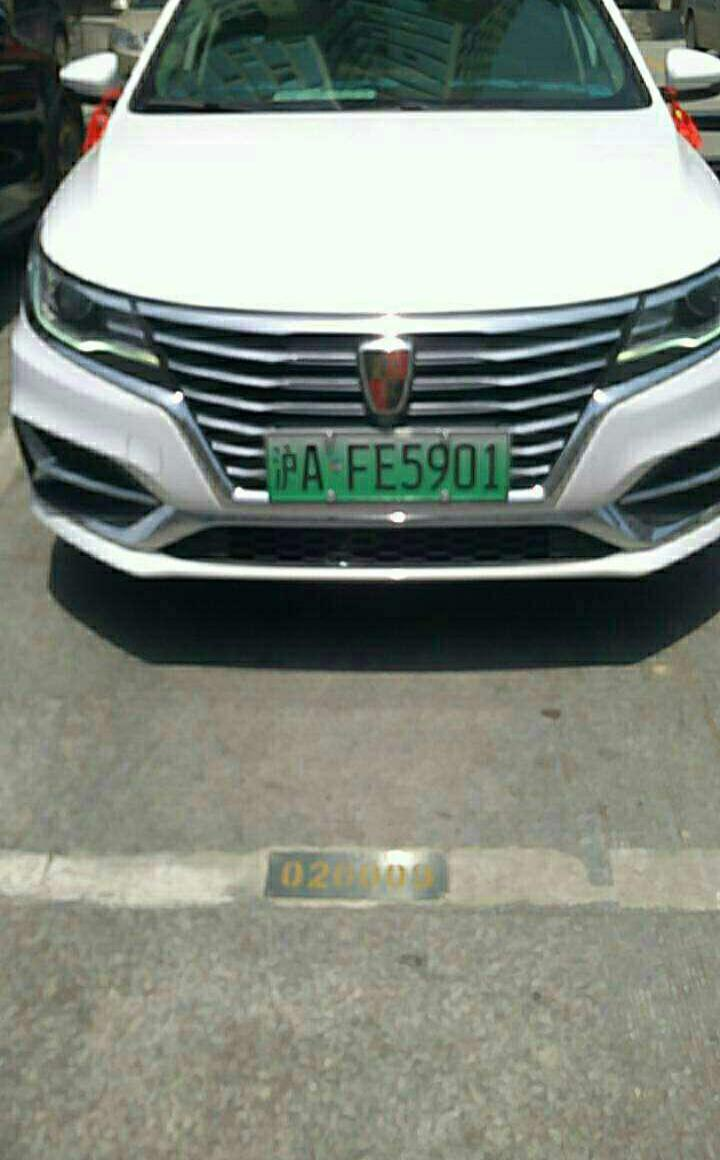car_id: (264, 430, 507, 502)
